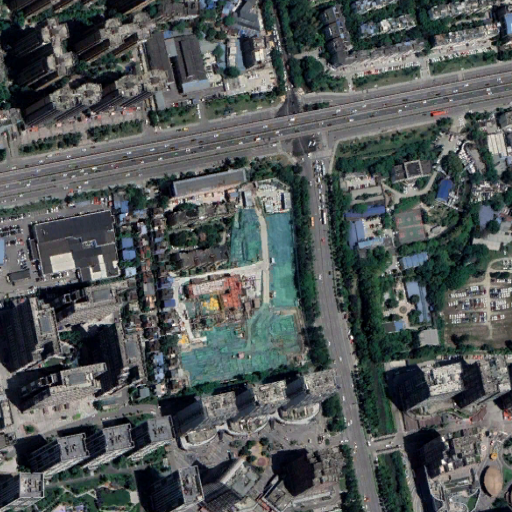cw: (180, 205, 309, 384)
